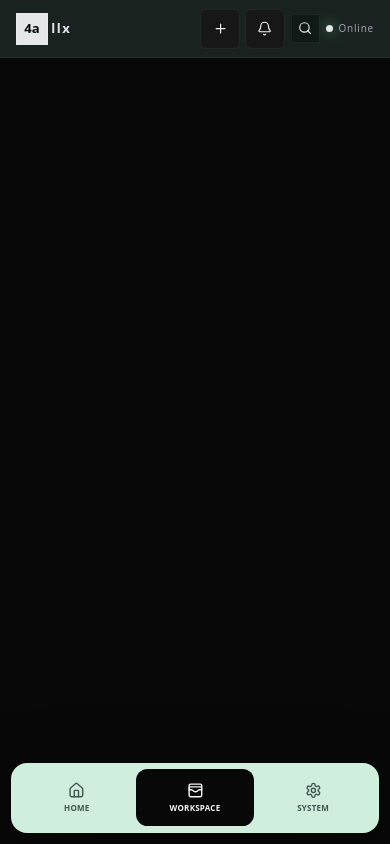
Test case: HubNavigation › numbers visible Workspace and System routes sequentially
The image size is (390, 844).
Click the button with aria-label "open workspace navigation" at (195, 798), box [136, 769, 254, 826]
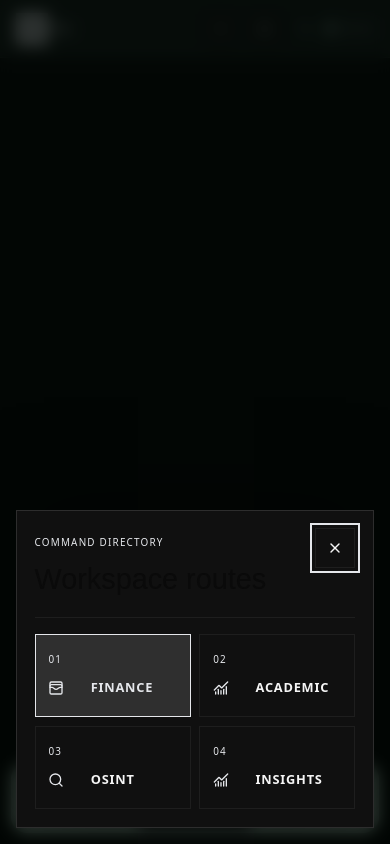
Result: the dialog named "workspace navigation" reads "COMMAND DIRECTORY Workspace routes 01 Finance 02 Academic 03 OSINT 04 Insights" at [16, 510, 374, 828]
Press Escape
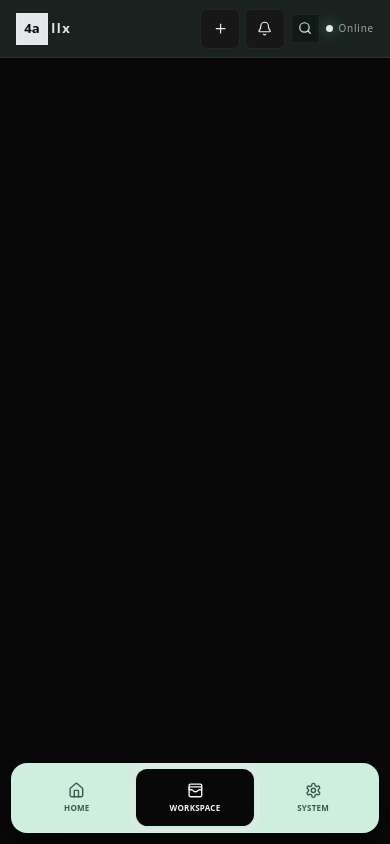
Click the button with aria-label "open system navigation" at (313, 798), box [254, 769, 372, 826]
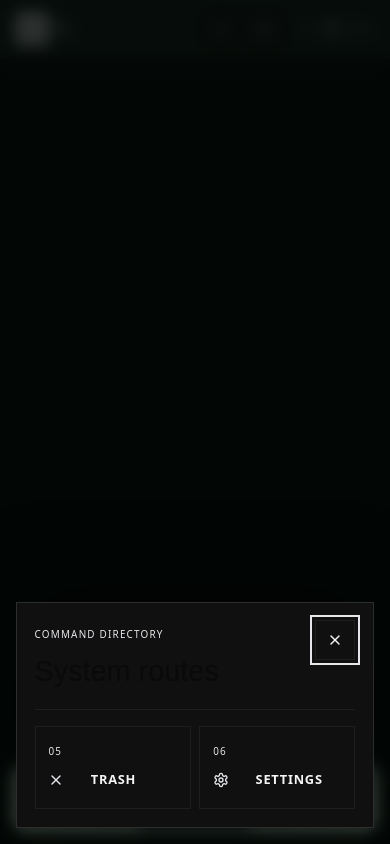
Result: the dialog named "system navigation" reads "COMMAND DIRECTORY System routes 05 Trash 06 Settings" at [16, 602, 374, 828]
